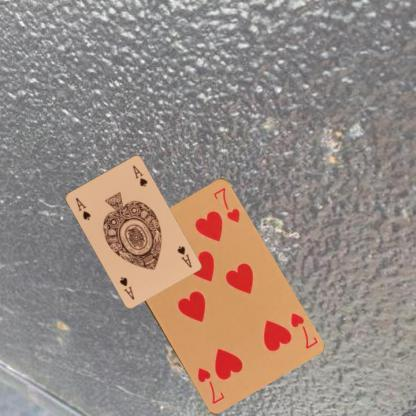7h: (287, 310, 319, 350)
As: (72, 194, 92, 222), (174, 243, 193, 269)
